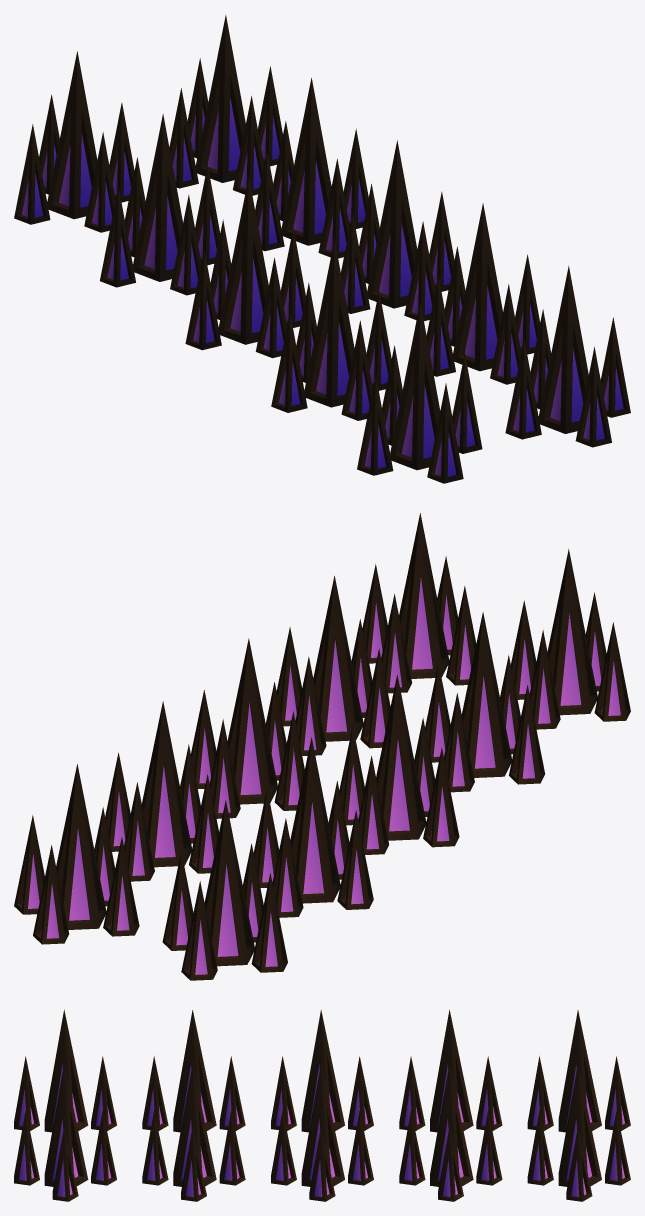
The model's file is Spikes.fbx.
The picture shows the model from 3 angles, top to bottom: view 1: azimuth 30°, elevation 25°; view 2: azimuth 150°, elevation 25°; view 3: azimuth 270°, elevation 25°; orthographic projection. The views are drawn at different scales.
Parts seen in each view (by area): view 1: Spikes; view 2: Spikes; view 3: Spikes.
Boxes of the visible parts, bbox=[...] form: Spikes: bbox=[14, 15, 630, 483]; Spikes: bbox=[14, 513, 630, 980]; Spikes: bbox=[14, 1009, 630, 1201].
Size of the model in its own units: 1.81 by 4.8 by 1.
